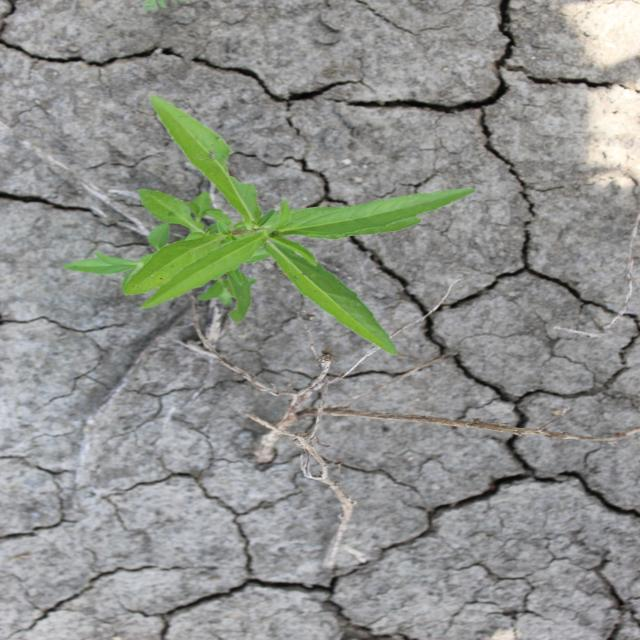Eclipta: (59, 94, 479, 360)
